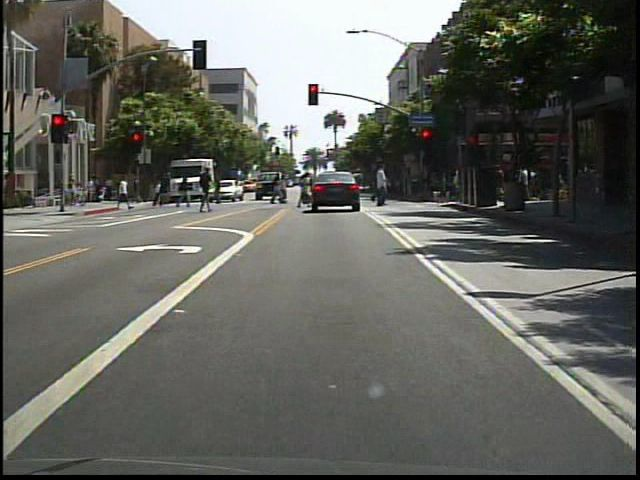person: (369, 162, 397, 214), (198, 168, 219, 217), (300, 171, 320, 210), (118, 174, 135, 214), (180, 173, 196, 212)
